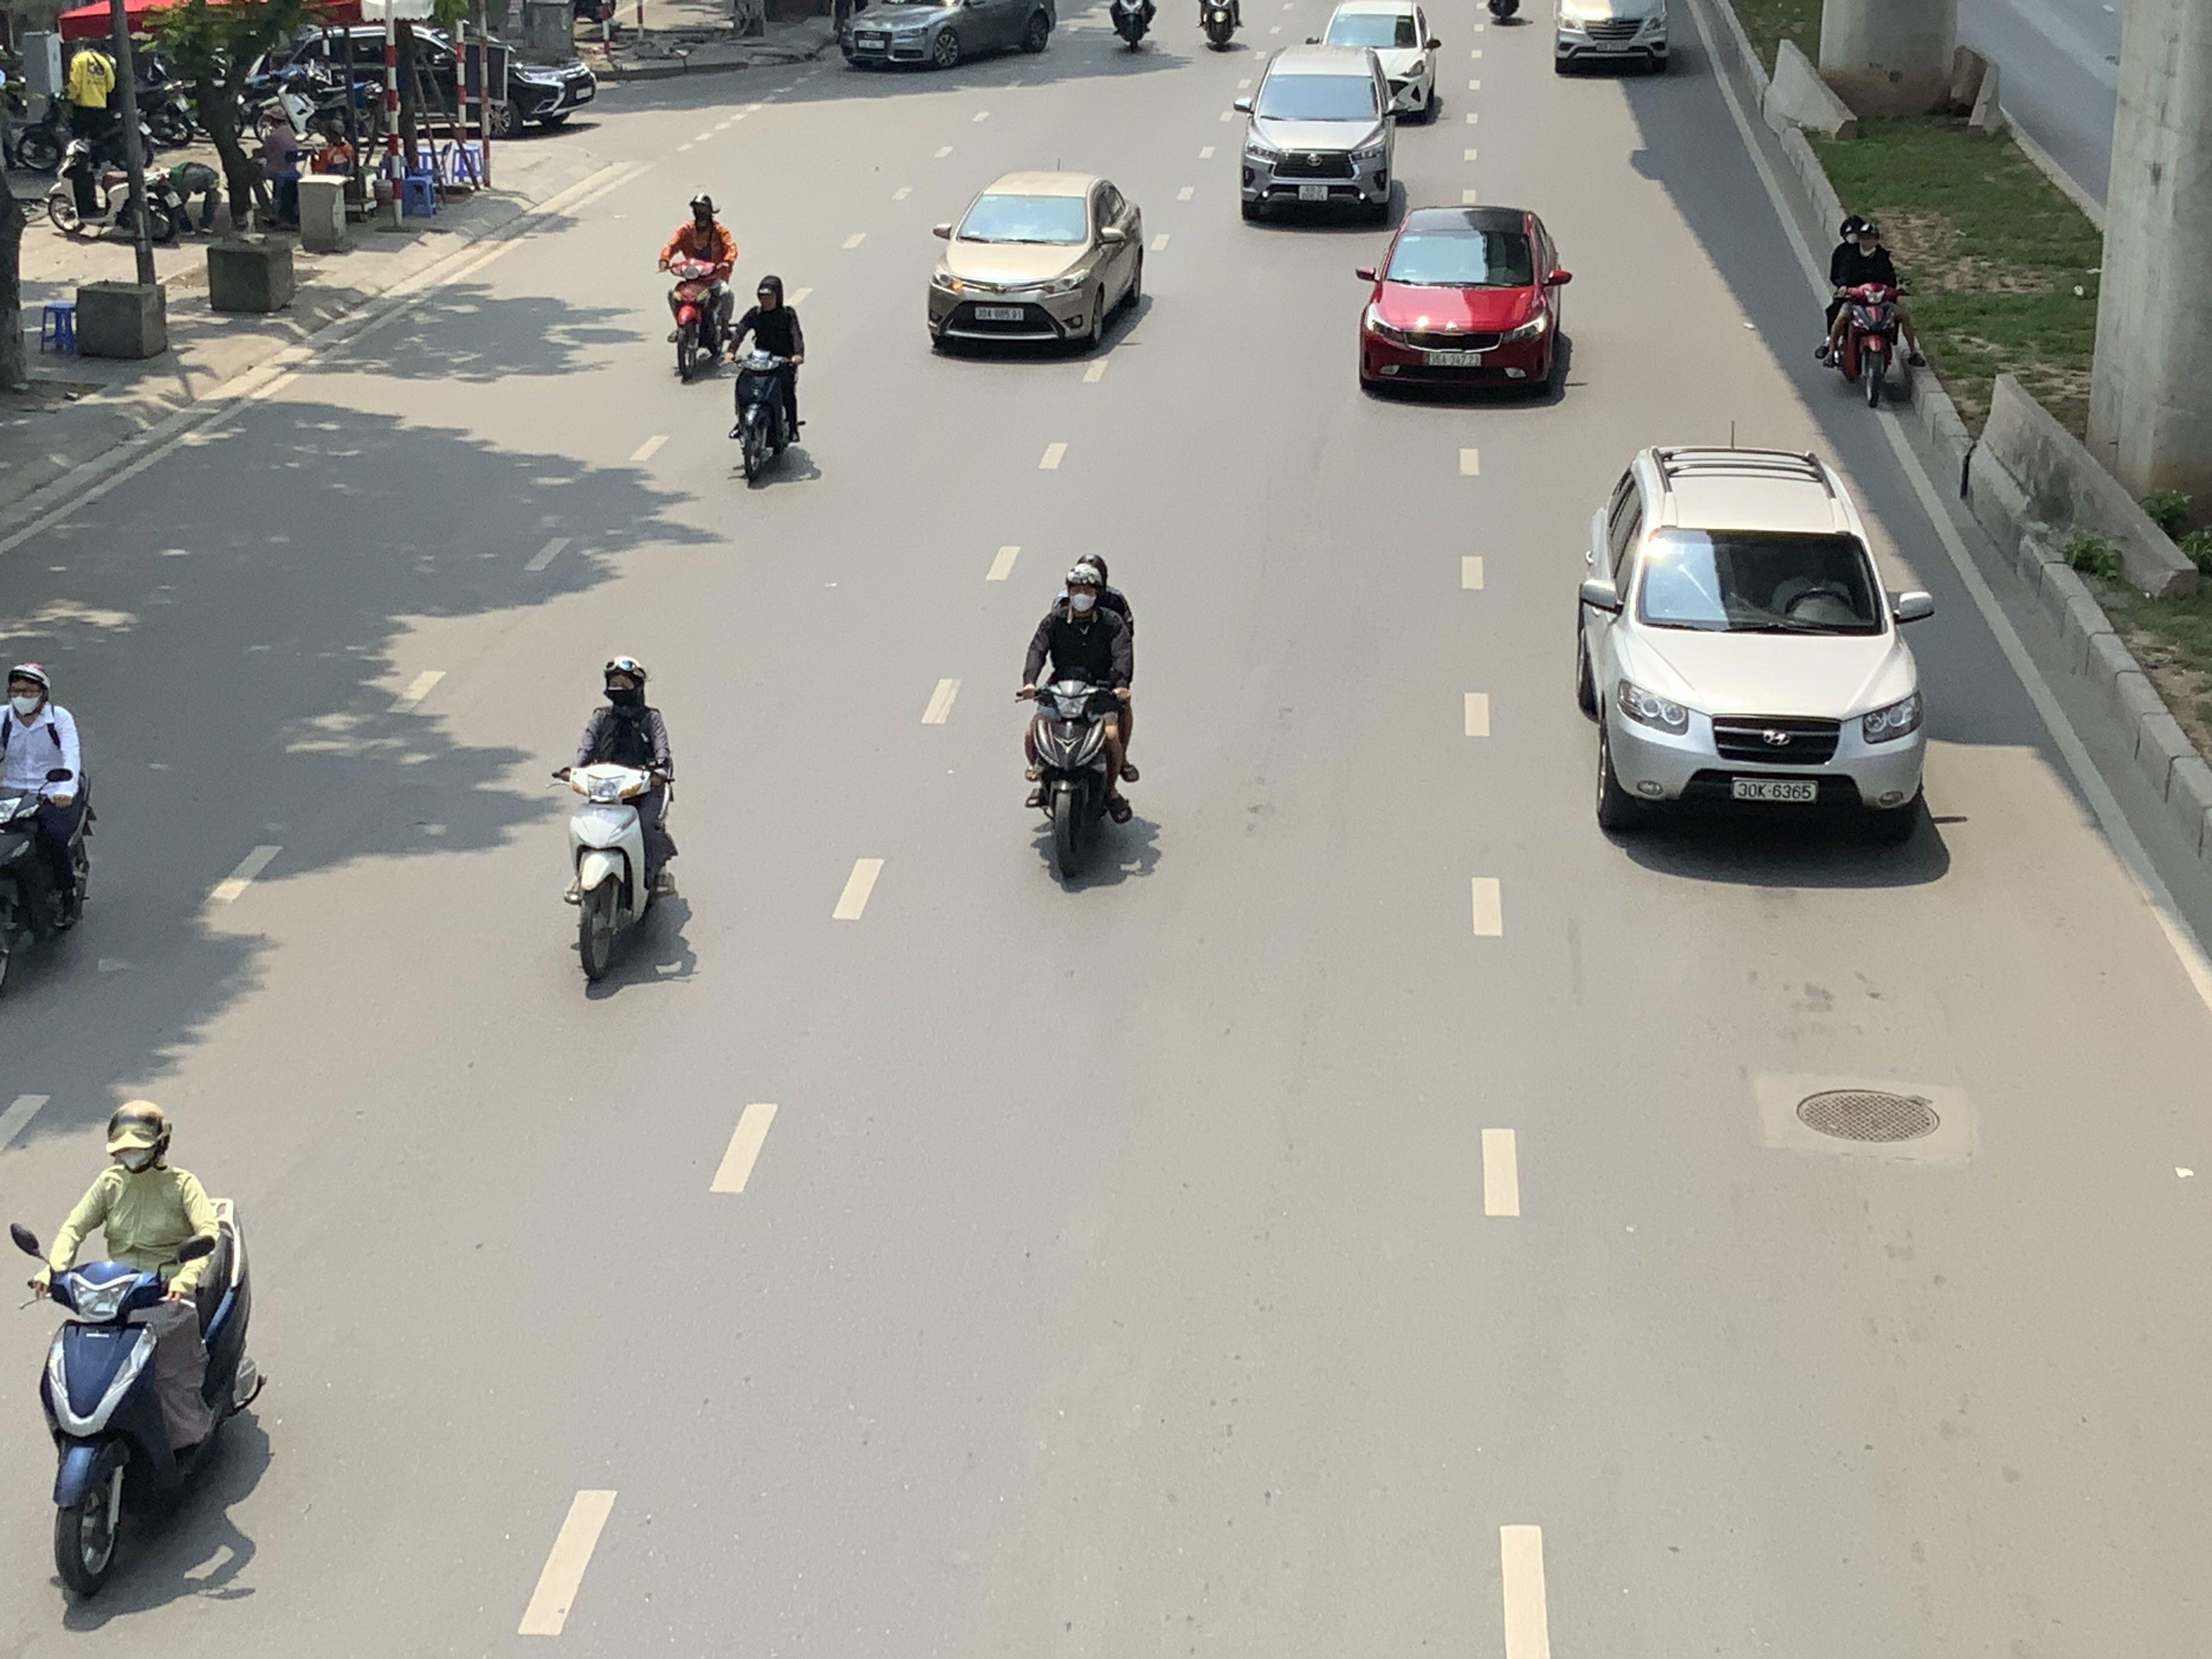BSD: (1733, 777, 1817, 802), (1428, 350, 1480, 366), (975, 307, 1024, 321)
BSV: (1298, 185, 1329, 200)
car: (1573, 444, 1937, 840), (1355, 204, 1575, 404), (927, 171, 1148, 356), (1231, 44, 1404, 225), (1308, 0, 1444, 124), (838, 0, 1057, 71), (1550, 0, 1674, 77)
motorbike: (12, 1096, 265, 1601), (554, 655, 681, 997), (1019, 554, 1139, 892), (0, 659, 96, 1004), (40, 106, 185, 247), (1818, 213, 1918, 410), (726, 275, 808, 488), (662, 192, 737, 383), (1108, 0, 1157, 52), (1195, 0, 1244, 51)
